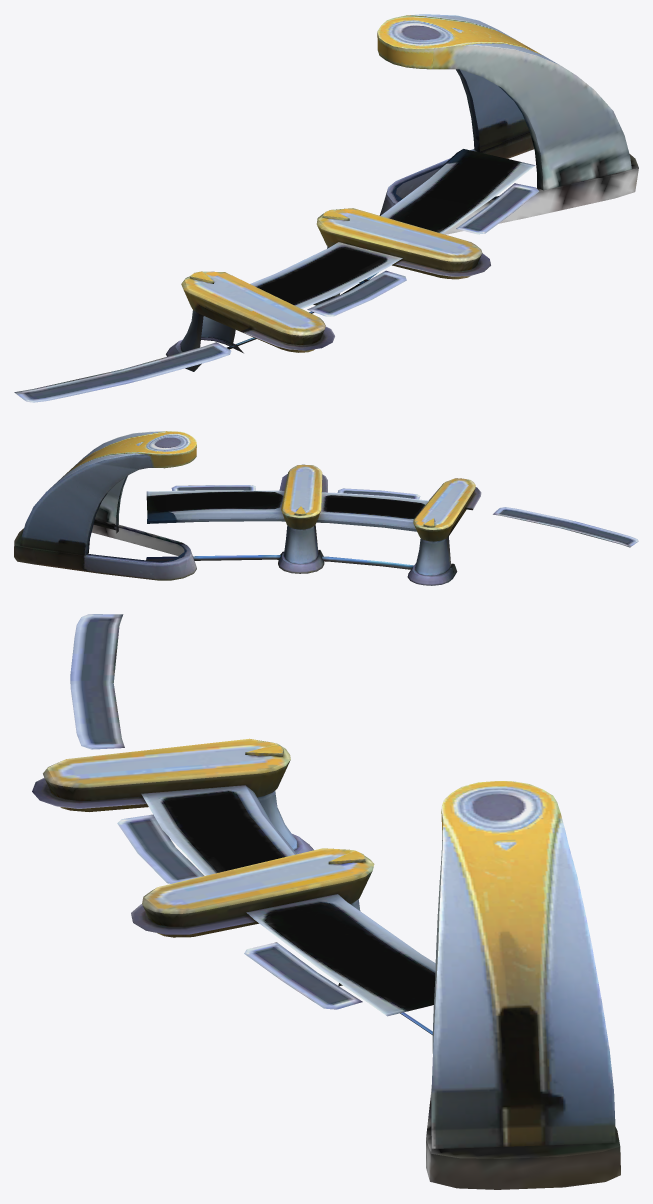
File: pref_sm_4v4beachtech_bk_topblock_L01b_lv0.fbx
The picture shows the model from 3 angles, top to bottom: view 1: azimuth 30°, elevation 25°; view 2: azimuth 150°, elevation 25°; view 3: azimuth 270°, elevation 25°; orthographic projection. The views are drawn at different scales.
Parts seen in each view (by area): view 1: sm_4v4beachtech_bk_topblock_L01b_lv0; view 2: sm_4v4beachtech_bk_topblock_L01b_lv0; view 3: sm_4v4beachtech_bk_topblock_L01b_lv0.
Boxes of the visible parts, x1,y1,x2,y2 form: sm_4v4beachtech_bk_topblock_L01b_lv0: (14, 14, 638, 402); sm_4v4beachtech_bk_topblock_L01b_lv0: (14, 431, 638, 585); sm_4v4beachtech_bk_topblock_L01b_lv0: (32, 614, 620, 1189).
Size of the model in its own units: 18.01 by 4.32 by 9.11.
